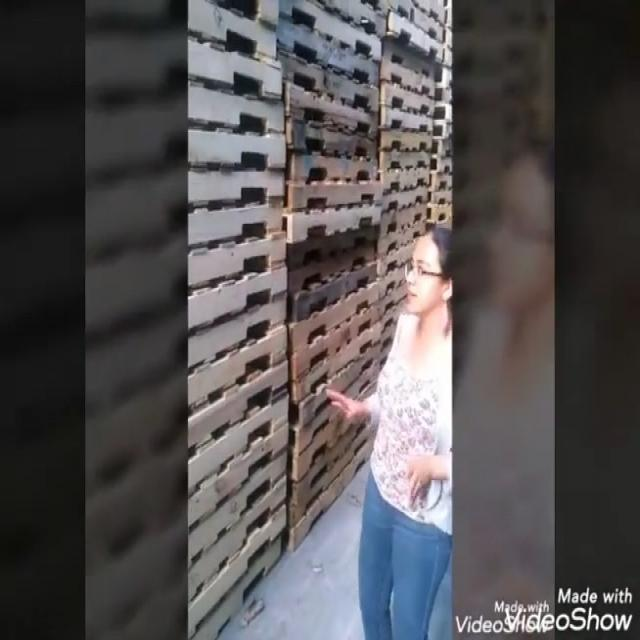Palette: (189, 0, 289, 640), (282, 0, 382, 559), (381, 0, 454, 224)
